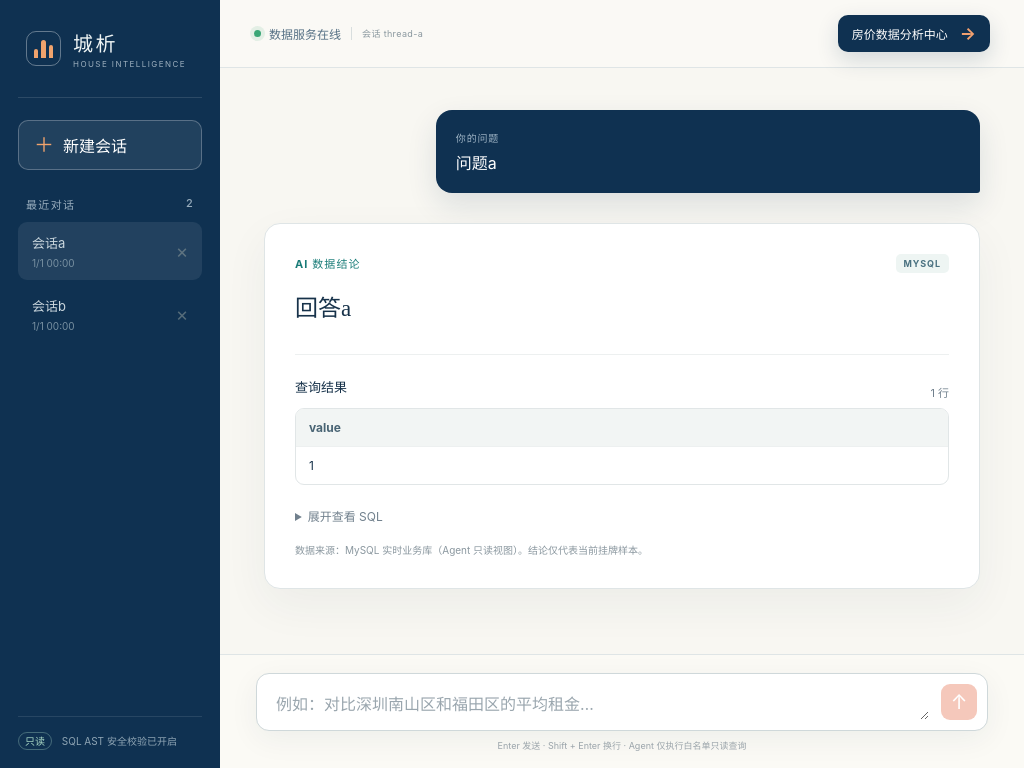
Test case: App conversations › deletes an unwanted history conversation
Click the button named "删除会话：会话a" at coordinates (182, 251), box [169,238,195,264]
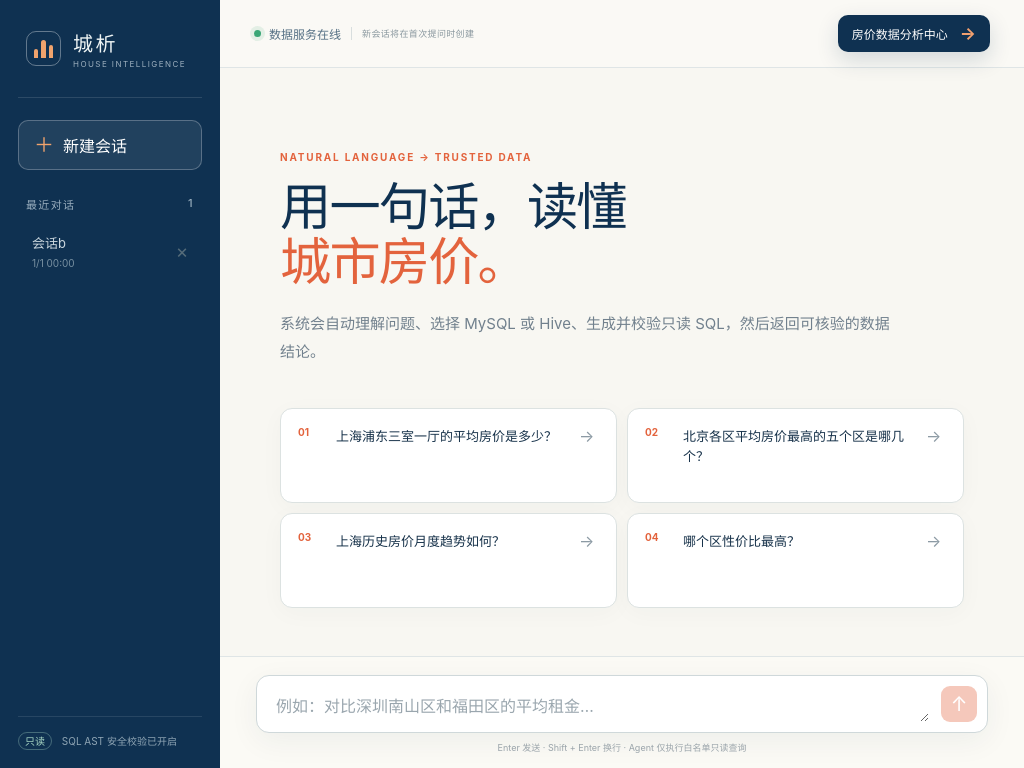
Check: the button "会话a" is gone
